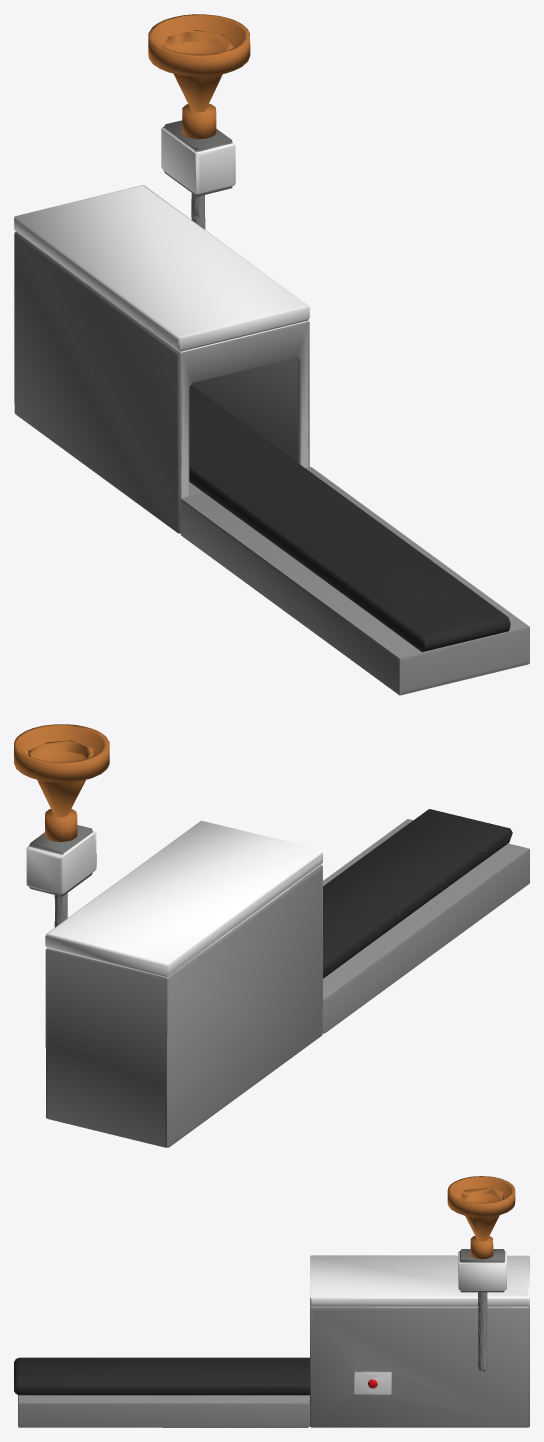
The model's file is LaufbandUndTrichter.glb.
3 renders of one model, top to bottom at view 1: azimuth 30°, elevation 25°; view 2: azimuth 150°, elevation 25°; view 3: azimuth 270°, elevation 25°, orthographic. The views are drawn at different scales.
Visible parts, largest first — view 1: 272926_23_05_11_15_02_16_0, 272926_23_05_11_15_02_16_2, 272984_23_05_11_15_10_24_0, 272984_23_05_11_15_10_24_1; view 2: 272926_23_05_11_15_02_16_0, 272926_23_05_11_15_02_16_2, 272984_23_05_11_15_10_24_0, 272984_23_05_11_15_10_24_1; view 3: 272926_23_05_11_15_02_16_0, 272926_23_05_11_15_02_16_2, 272984_23_05_11_15_10_24_0, 272984_23_05_11_15_10_24_1, 272926_23_05_11_15_02_16_4.
Boxes of the visible parts, left/top/right/bottom form: 272926_23_05_11_15_02_16_0: left=14, top=120, right=529, bottom=695; 272926_23_05_11_15_02_16_2: left=189, top=385, right=510, bottom=652; 272984_23_05_11_15_10_24_0: left=148, top=14, right=250, bottom=139; 272984_23_05_11_15_10_24_1: left=163, top=30, right=233, bottom=112; 272926_23_05_11_15_02_16_0: left=26, top=819, right=529, bottom=1147; 272926_23_05_11_15_02_16_2: left=323, top=809, right=512, bottom=978; 272984_23_05_11_15_10_24_0: left=14, top=724, right=109, bottom=841; 272984_23_05_11_15_10_24_1: left=28, top=740, right=93, bottom=817; 272926_23_05_11_15_02_16_0: left=18, top=1249, right=529, bottom=1427; 272926_23_05_11_15_02_16_2: left=14, top=1357, right=309, bottom=1395; 272984_23_05_11_15_10_24_0: left=447, top=1176, right=515, bottom=1259; 272984_23_05_11_15_10_24_1: left=459, top=1187, right=504, bottom=1241; 272926_23_05_11_15_02_16_4: left=478, top=1292, right=487, bottom=1371.
Size of the model in its own units: 19.6 by 35.6 by 68.25.
5 materials, 5 textured.
